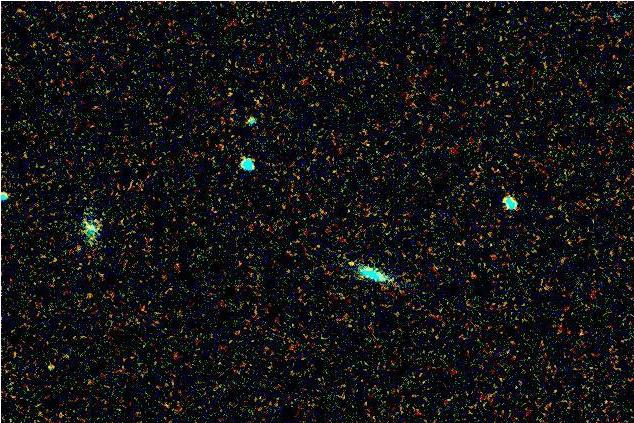star: (335, 249, 365, 279)
